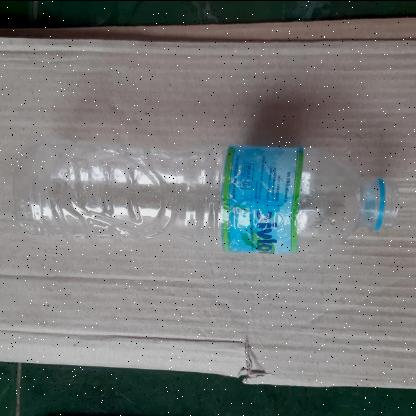Plastic Bottle: (15, 140, 403, 252)
